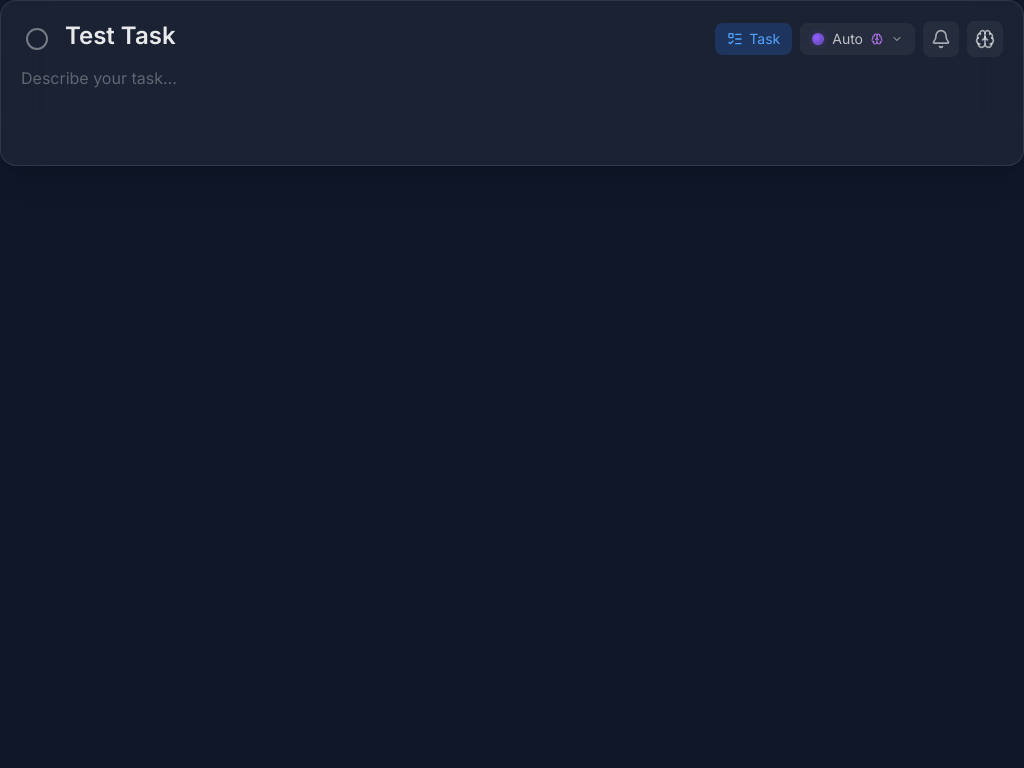
Scenario: TaskEditor › Bottom Left Buttons › should open content dropdown when content button is clicked
Click the text box named "title" at (382,36), box [65,21,699,51]
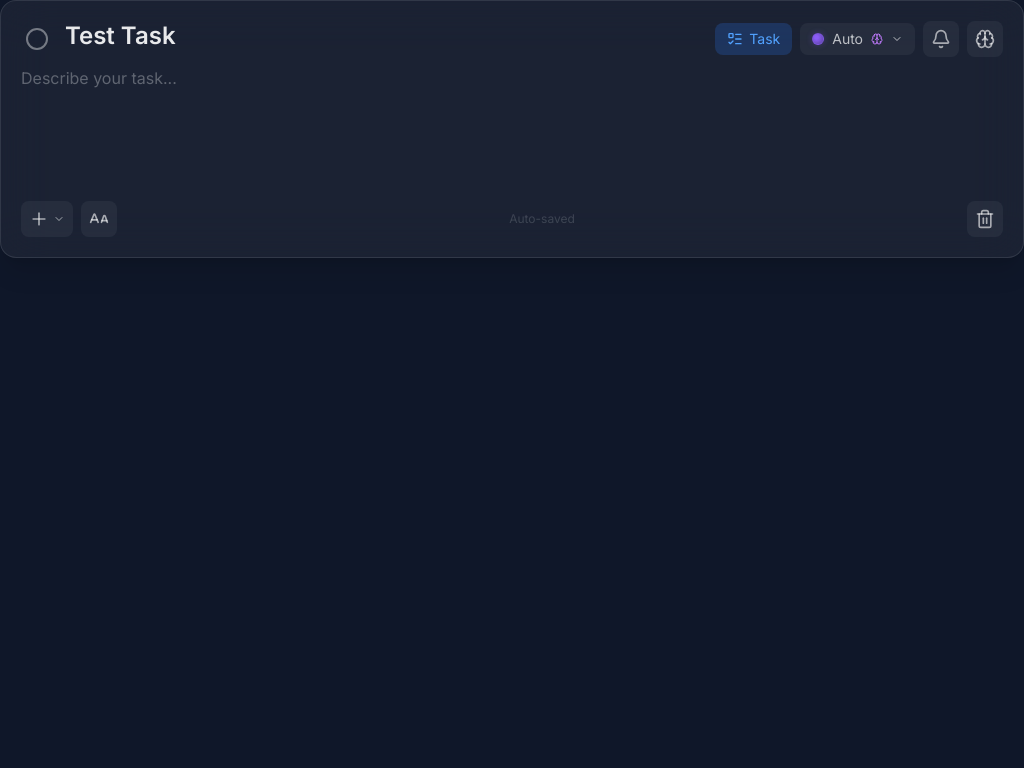
Click the button named "add content" at (47,219), box [21,201,73,237]
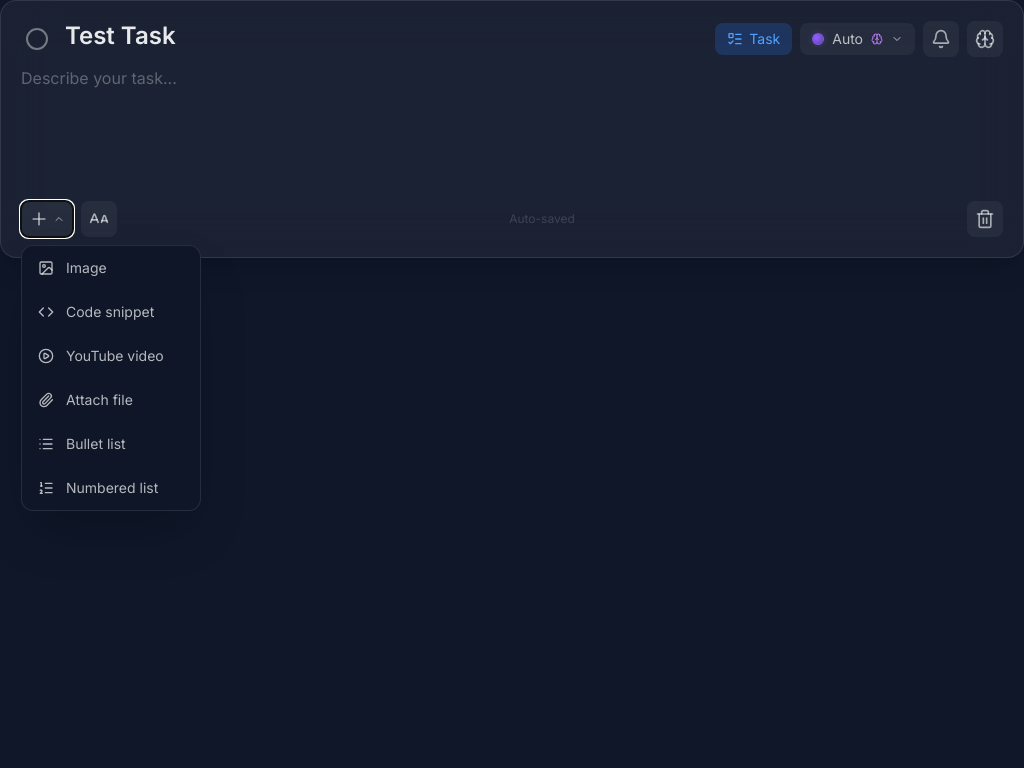
Now the menu is shown, box [21,245,201,511]
